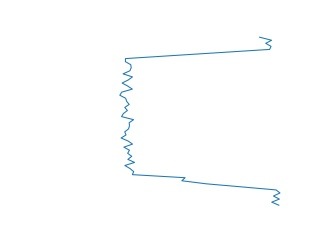distributaryChannelFill: (115, 36, 289, 207)
